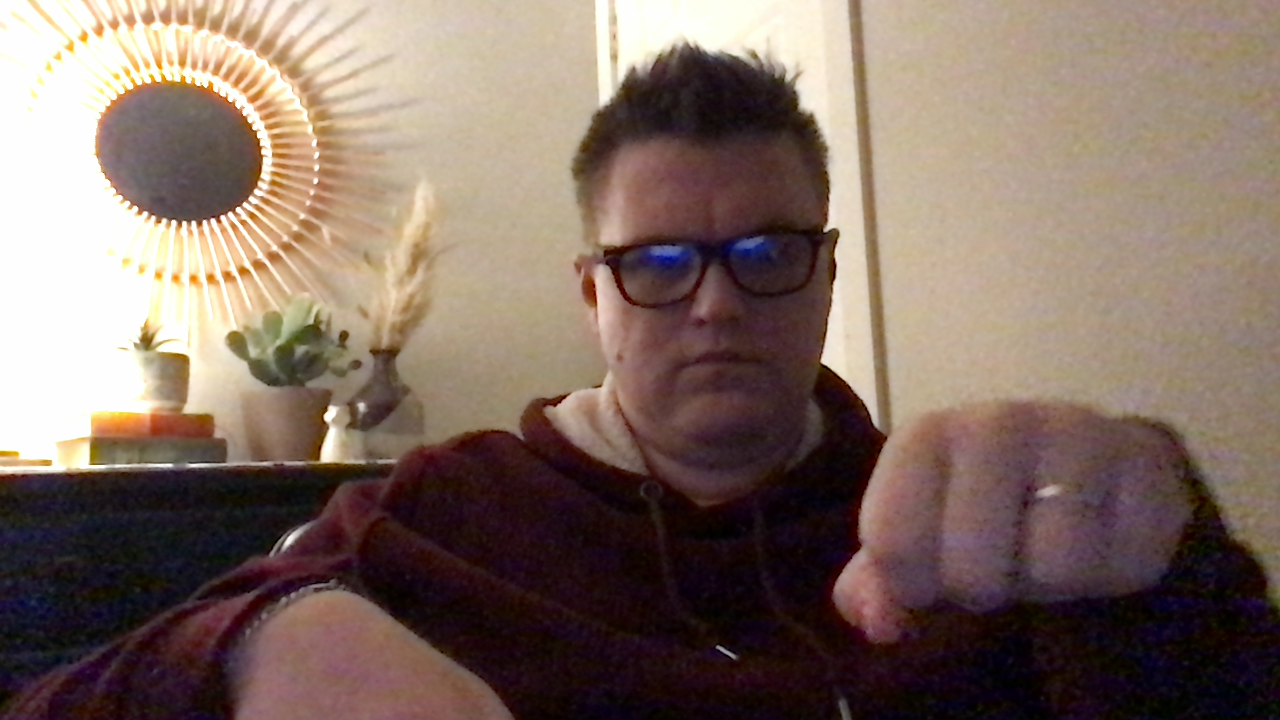yes: (838, 398, 1217, 647)
